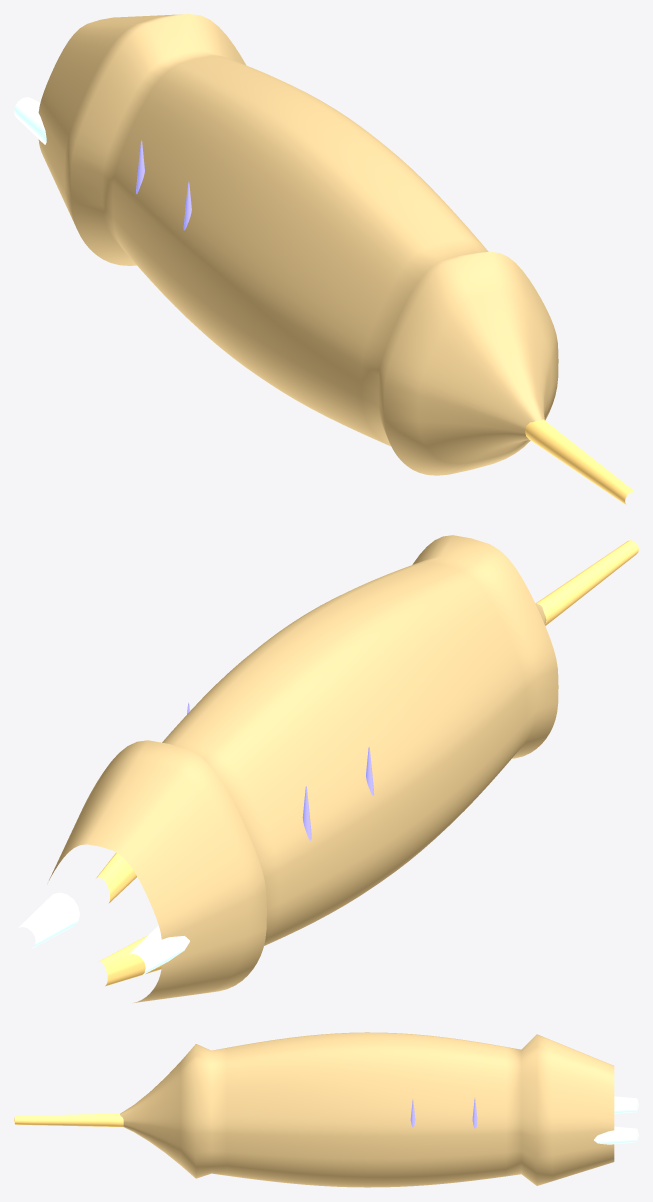
The model's file is empire_fighter.glb.
3 renders of one model, top to bottom at view 1: azimuth 30°, elevation 25°; view 2: azimuth 150°, elevation 25°; view 3: azimuth 270°, elevation 25°, orthographic. The views are drawn at different scales.
Parts seen in each view (by area): view 1: empire_fighter; view 2: empire_fighter; view 3: empire_fighter.
Part boxes in pixels (x1=…): empire_fighter: x1=14, y1=14, x2=635, y2=505; empire_fighter: x1=18, y1=535, x2=638, y2=1003; empire_fighter: x1=14, y1=1032, x2=638, y2=1187.
Bounding box in the file's own units: 0.8399 × 0.9899 × 4.03.
